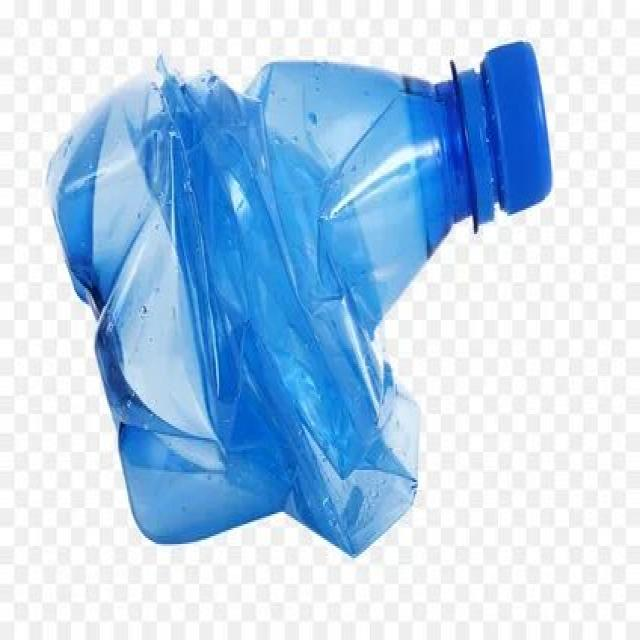blue: (44, 55, 459, 562)
